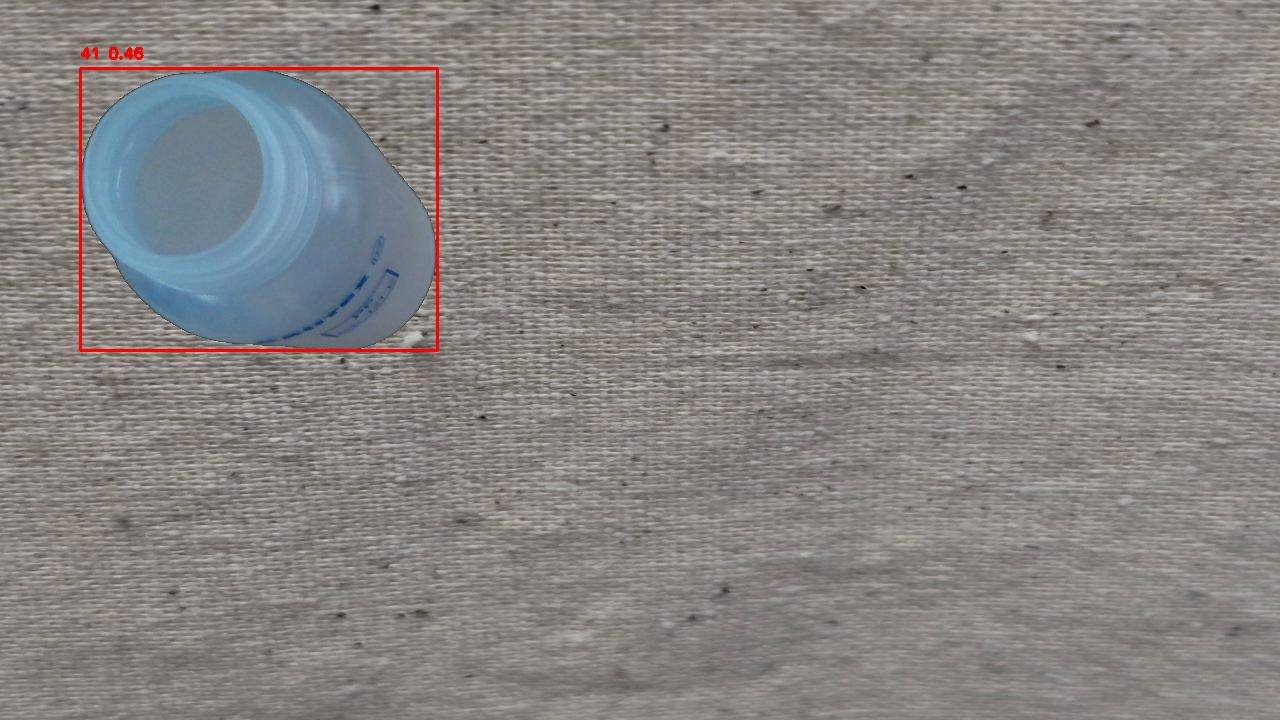cup: (80, 68, 437, 350)
